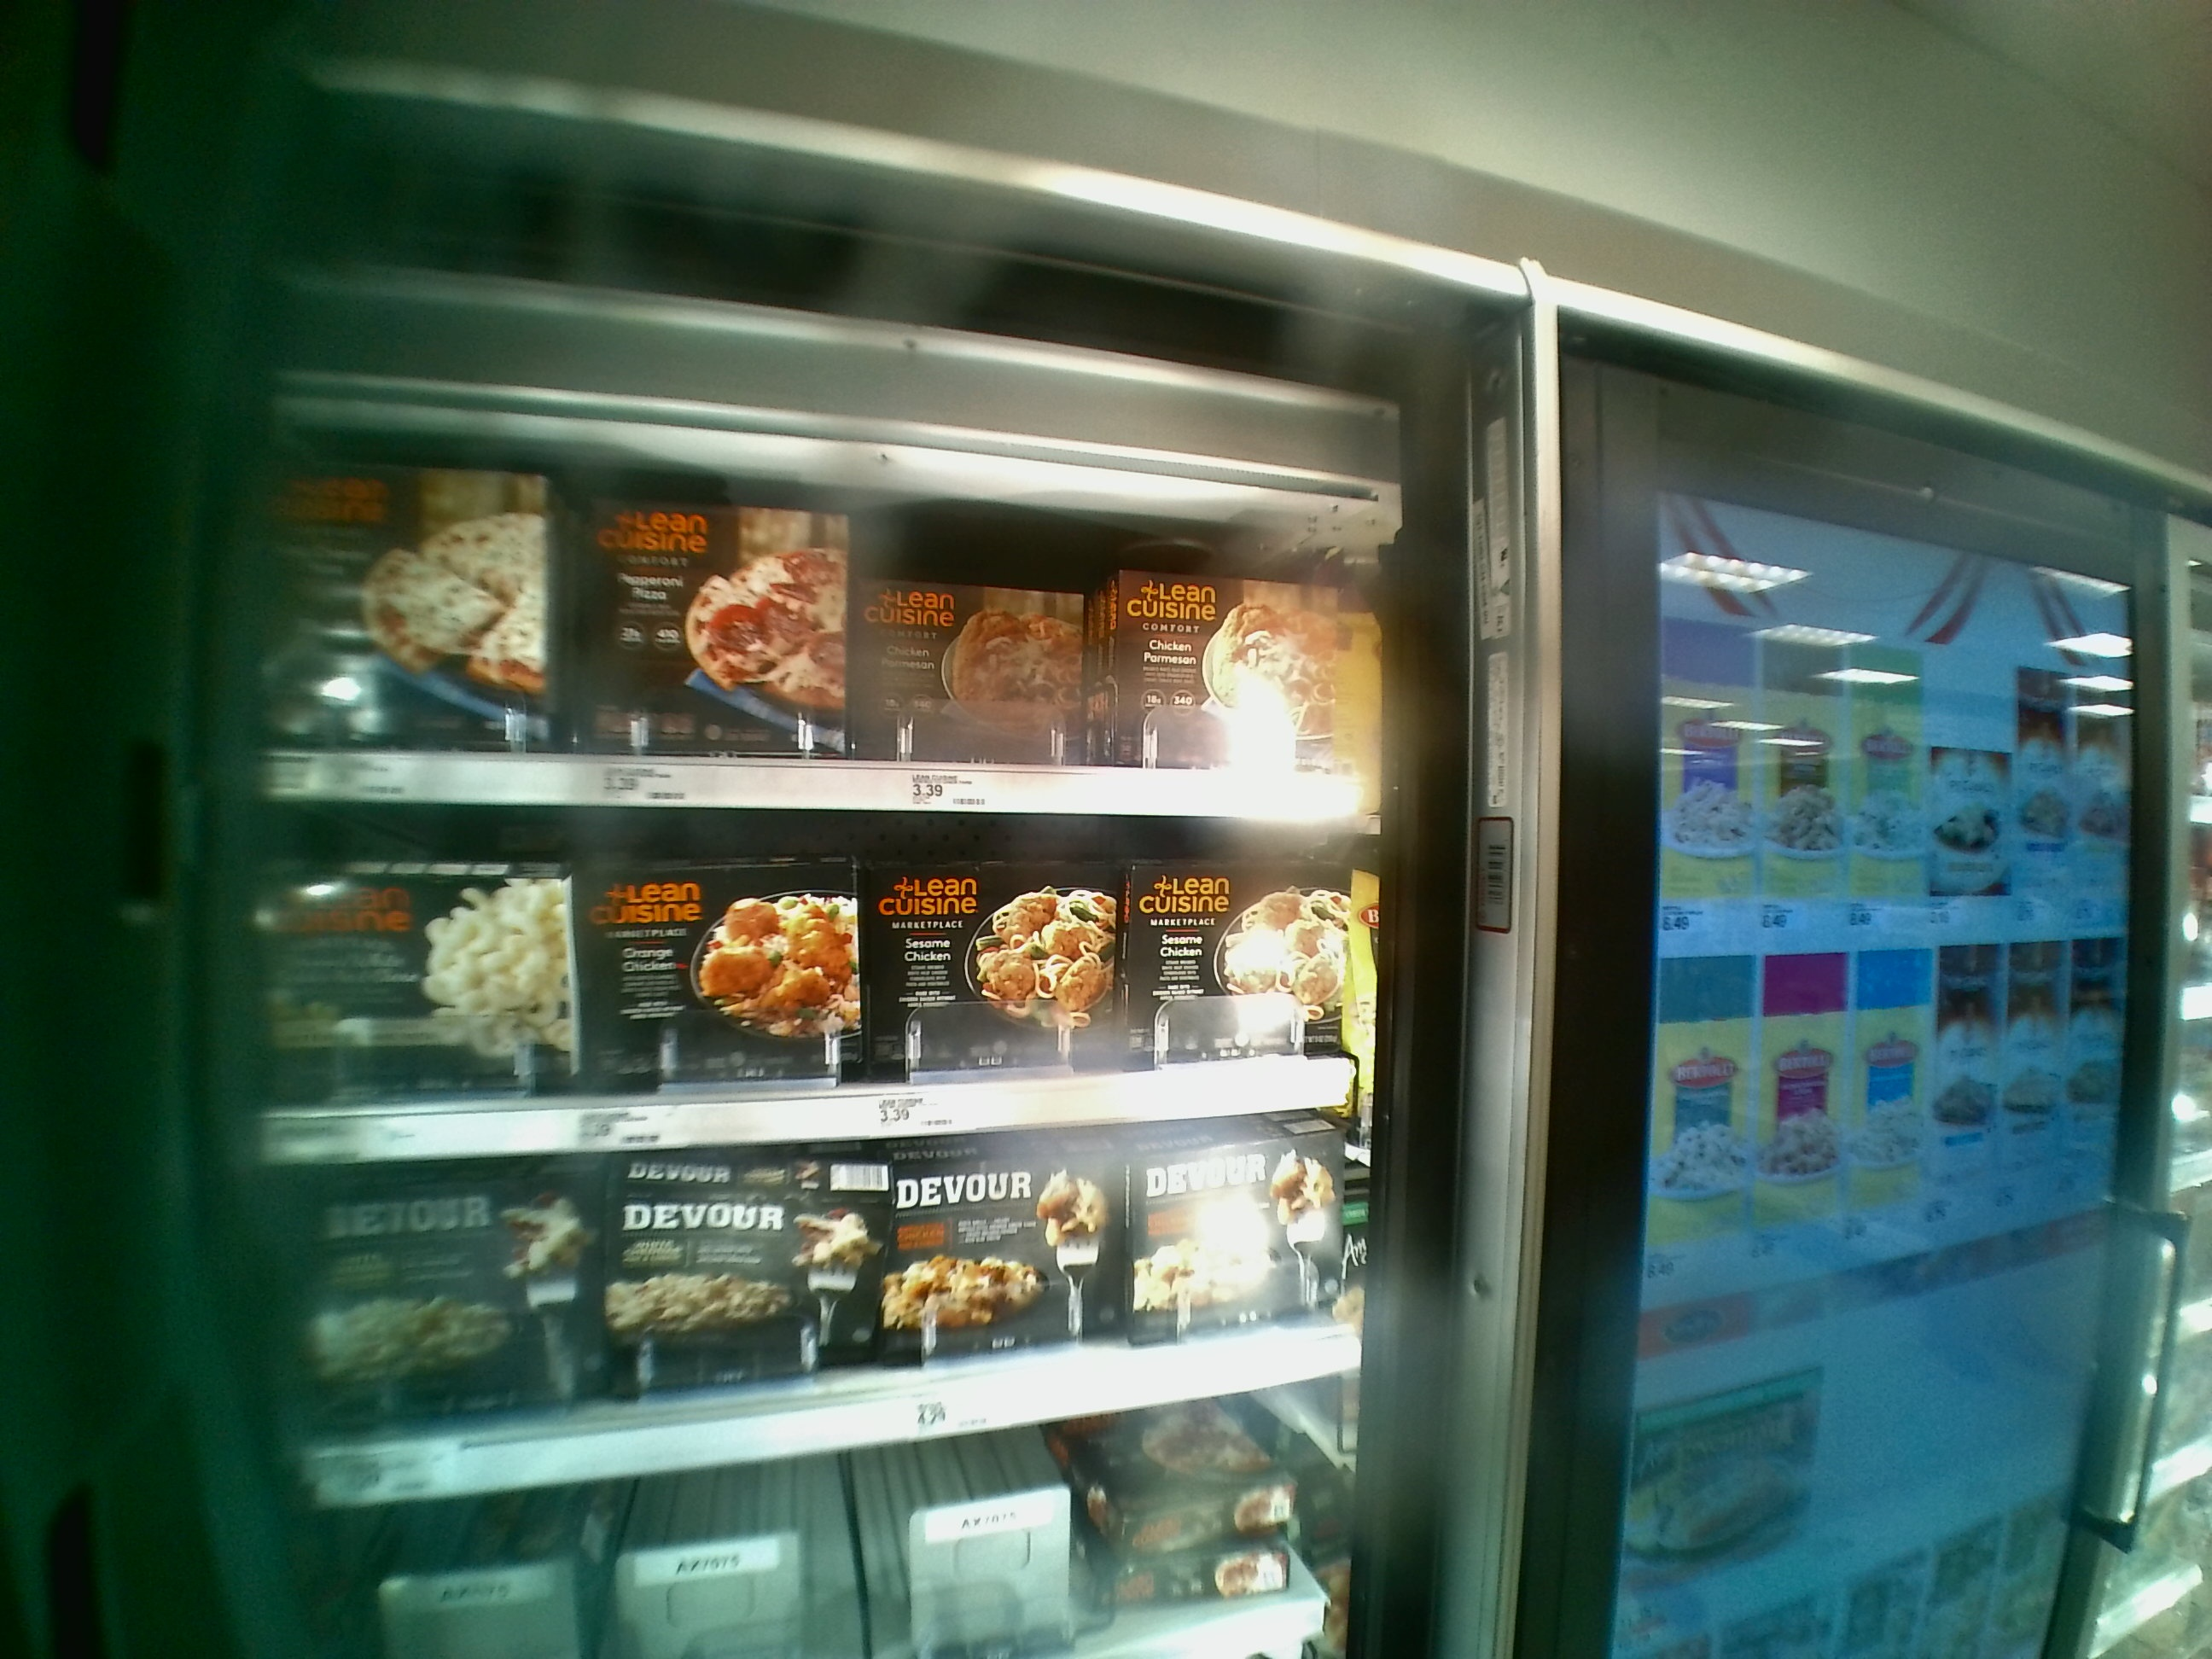shelf: (265, 382, 1379, 828), (240, 798, 1379, 1155)
